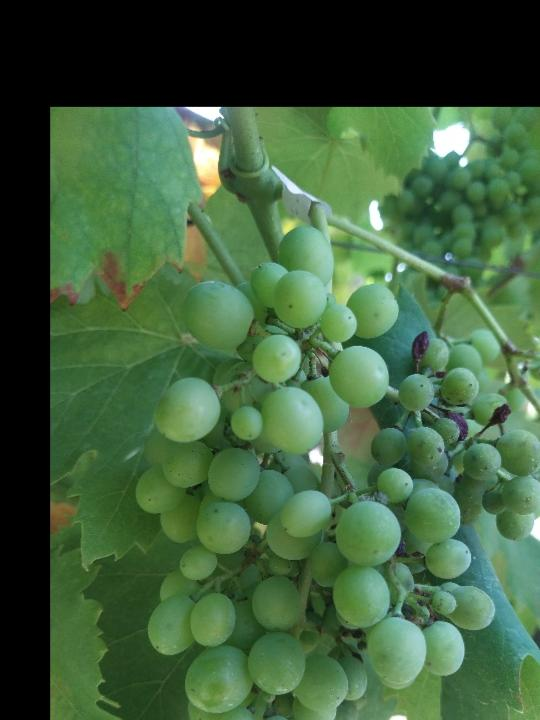grape: (133, 225, 540, 720)
